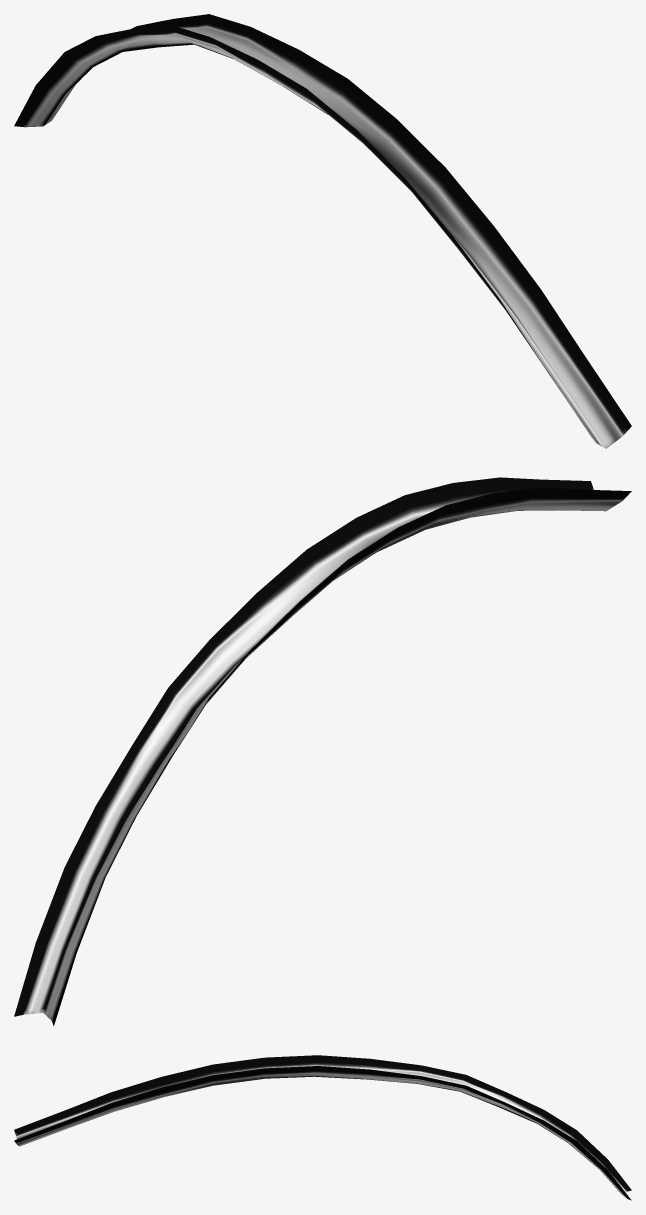
File: p_mesh_drillbot_schythe_anticipation03.fbx
3 views of the same model, one above another, from view 1: azimuth 30°, elevation 25°; view 2: azimuth 150°, elevation 25°; view 3: azimuth 270°, elevation 25° (orthographic). The views are drawn at different scales.
Visible parts, largest first — view 1: Cube.002; view 2: Cube.002; view 3: Cube.002.
Boxes of the visible parts, x1,y1,x2,y2 form: Cube.002: (14,14,631,448); Cube.002: (14,477,631,1025); Cube.002: (14,1055,631,1200).
Bounding box in the file's own units: 2.96 × 17.34 × 71.94.
Materials: 1 (1 with a texture image).
